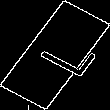L_NW: (20, 29, 90, 81)
